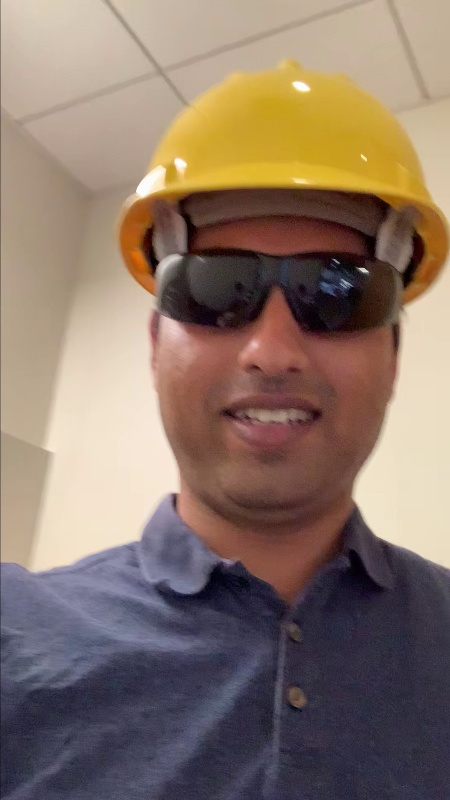glasses: (140, 242, 410, 344)
helmet: (107, 53, 450, 266)
